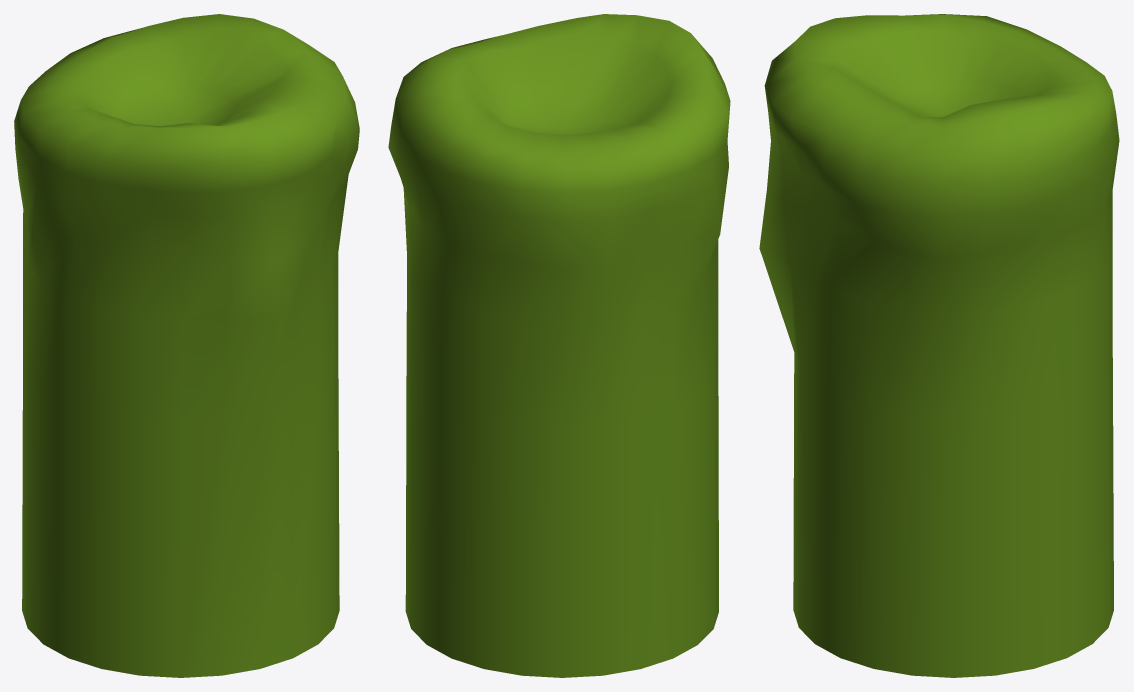
File: candle2.fbx
3 renders of one model, left to right at view 1: azimuth 30°, elevation 25°; view 2: azimuth 150°, elevation 25°; view 3: azimuth 270°, elevation 25°, orthographic. The views are drawn at different scales.
Parts seen in each view (by area): view 1: candle2_low; view 2: candle2_low; view 3: candle2_low.
Part boxes in pixels (left/top/right/bottom): candle2_low: left=14, top=14, right=359, bottom=677; candle2_low: left=388, top=14, right=730, bottom=677; candle2_low: left=759, top=14, right=1119, bottom=677.
Bounding box in the file's own units: 399 × 391 × 665.
